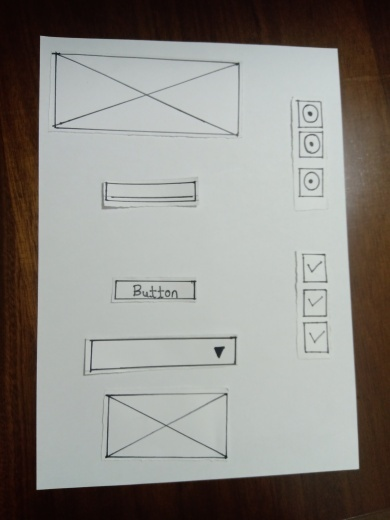button: (116, 282, 192, 301)
checkbox: (302, 256, 328, 282), (302, 325, 328, 351), (303, 288, 323, 317)
dropdown: (85, 332, 236, 377)
img: (54, 53, 239, 137), (106, 397, 229, 456)
radio: (298, 99, 321, 129), (300, 167, 323, 197), (298, 132, 321, 162)
text: (102, 184, 202, 201)
